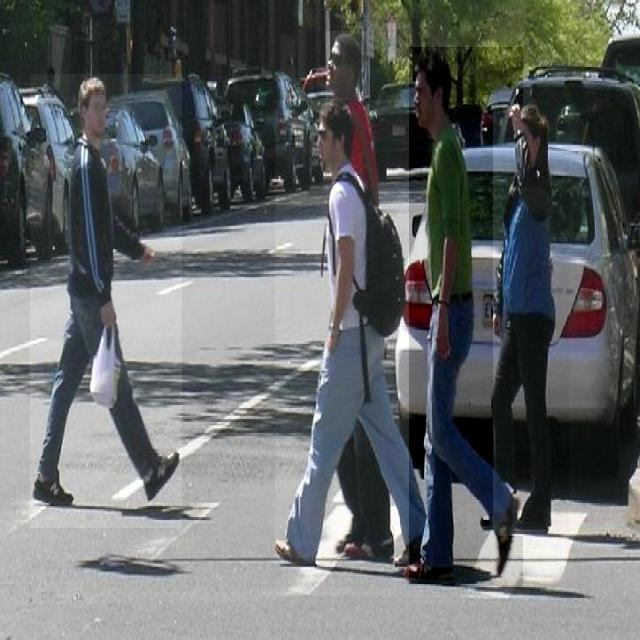with scooter: (276, 100, 426, 564), (31, 74, 182, 528), (409, 47, 523, 586), (494, 106, 570, 536), (325, 31, 367, 100)
